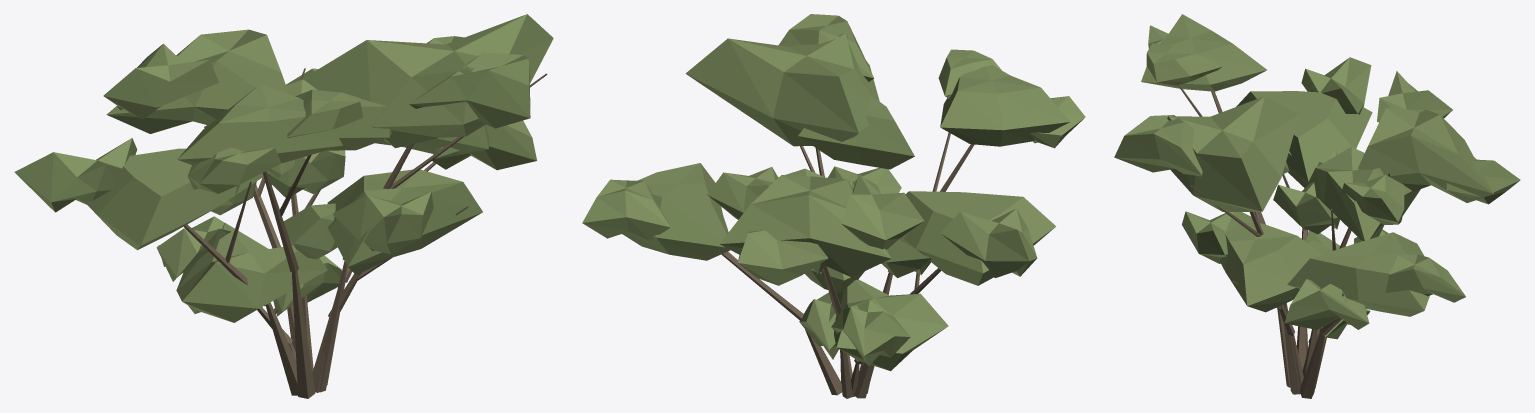
Rendered from sand-plum-open-lite.glb.
The picture shows the model from 3 angles, left to right: view 1: azimuth 30°, elevation 25°; view 2: azimuth 150°, elevation 25°; view 3: azimuth 270°, elevation 25°; orthographic projection. The views are drawn at different scales.
Visible parts, largest first — view 1: sand-plum-open-lite / foliage, sand-plum-open-lite / stems; view 2: sand-plum-open-lite / foliage, sand-plum-open-lite / stems; view 3: sand-plum-open-lite / foliage, sand-plum-open-lite / stems.
Boxes of the visible parts, left/top/right/bottom form: sand-plum-open-lite / foliage: left=14, top=14, right=553, bottom=322; sand-plum-open-lite / stems: left=183, top=68, right=547, bottom=398; sand-plum-open-lite / foliage: left=582, top=14, right=1085, bottom=371; sand-plum-open-lite / stems: left=721, top=132, right=974, bottom=398; sand-plum-open-lite / foliage: left=1114, top=14, right=1520, bottom=339; sand-plum-open-lite / stems: left=1178, top=84, right=1390, bottom=398.
Bounding box in the file's own units: 2.05 × 1.46 × 1.71.
